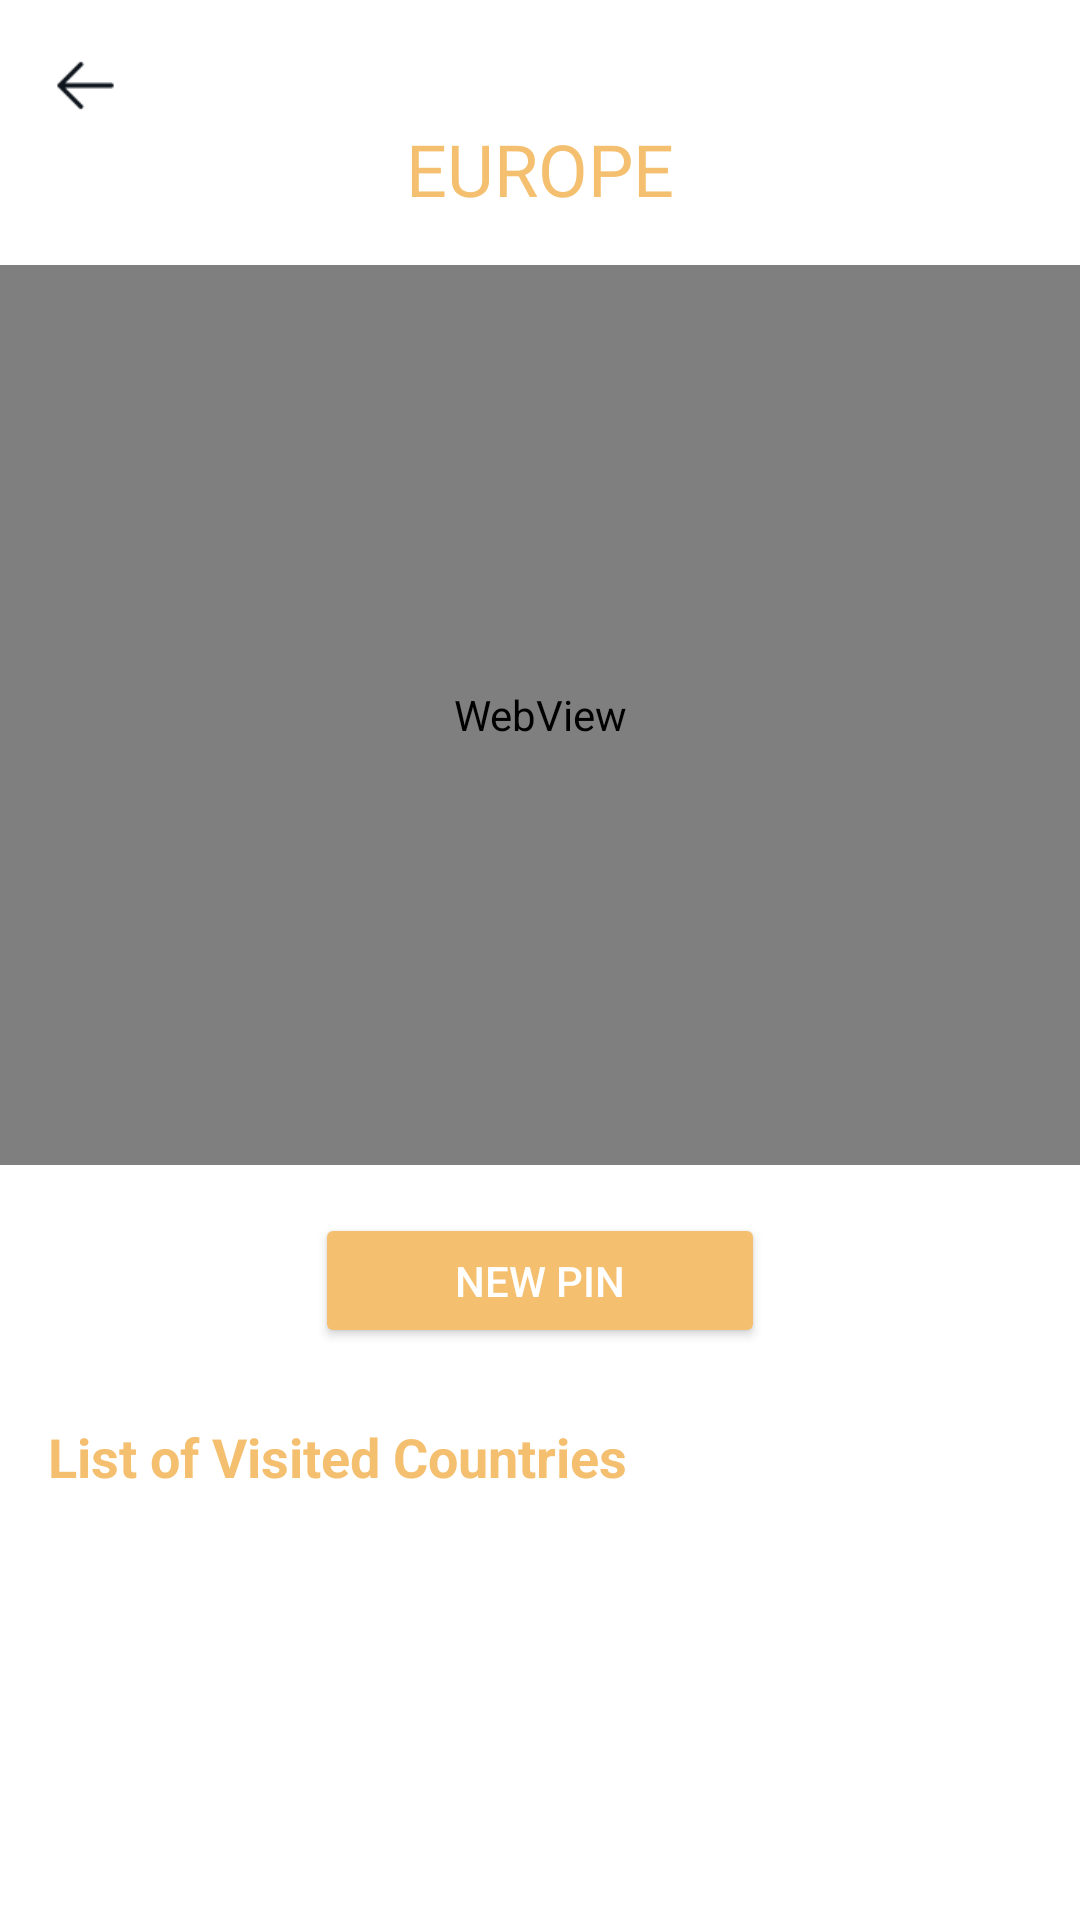

Icons on this 1080 × 1920 Android screen, each with its box as detection(x1, y1, x2, y2):
Back: detection(57, 61, 114, 110)
